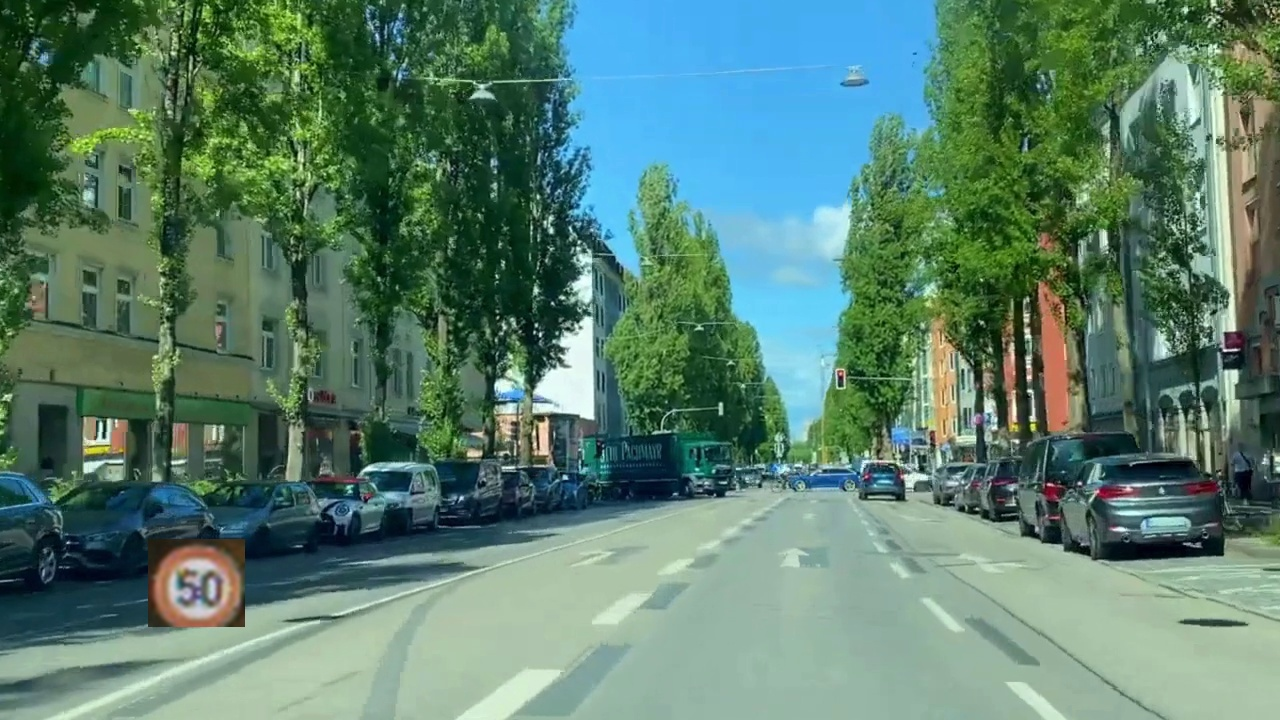Speed 50: (148, 539, 245, 627)
